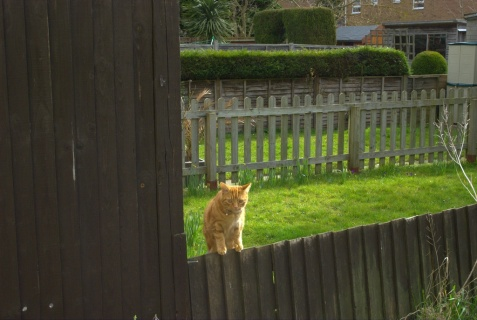Cat: (200, 179, 254, 259)
